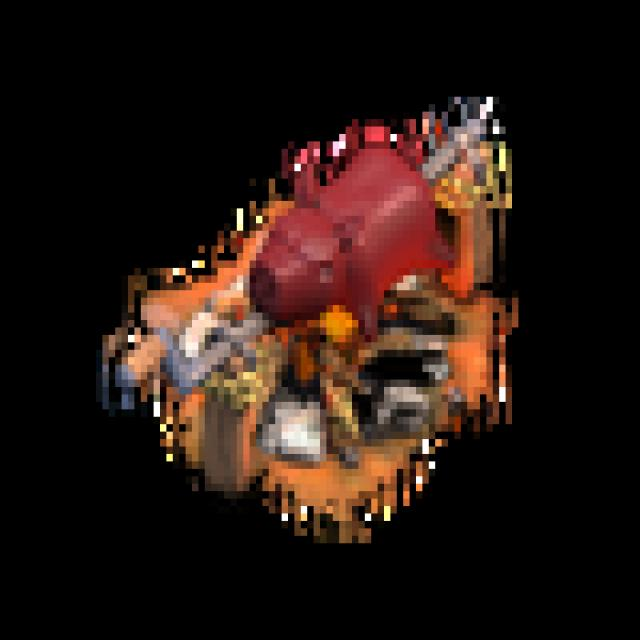army_camp: (80, 52, 558, 570)
